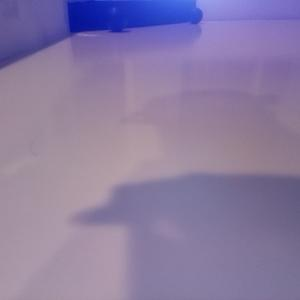dead_ball: (104, 5, 127, 31), (187, 7, 203, 24)
